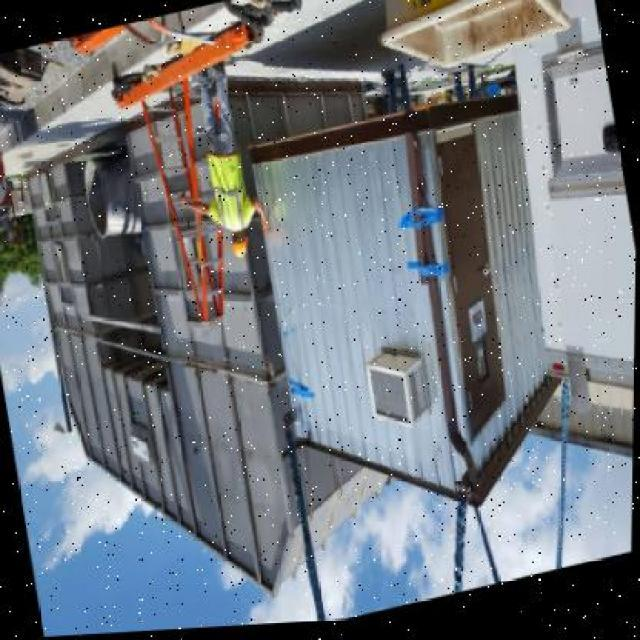helmet: (225, 228, 255, 270)
vest: (194, 134, 260, 240)
